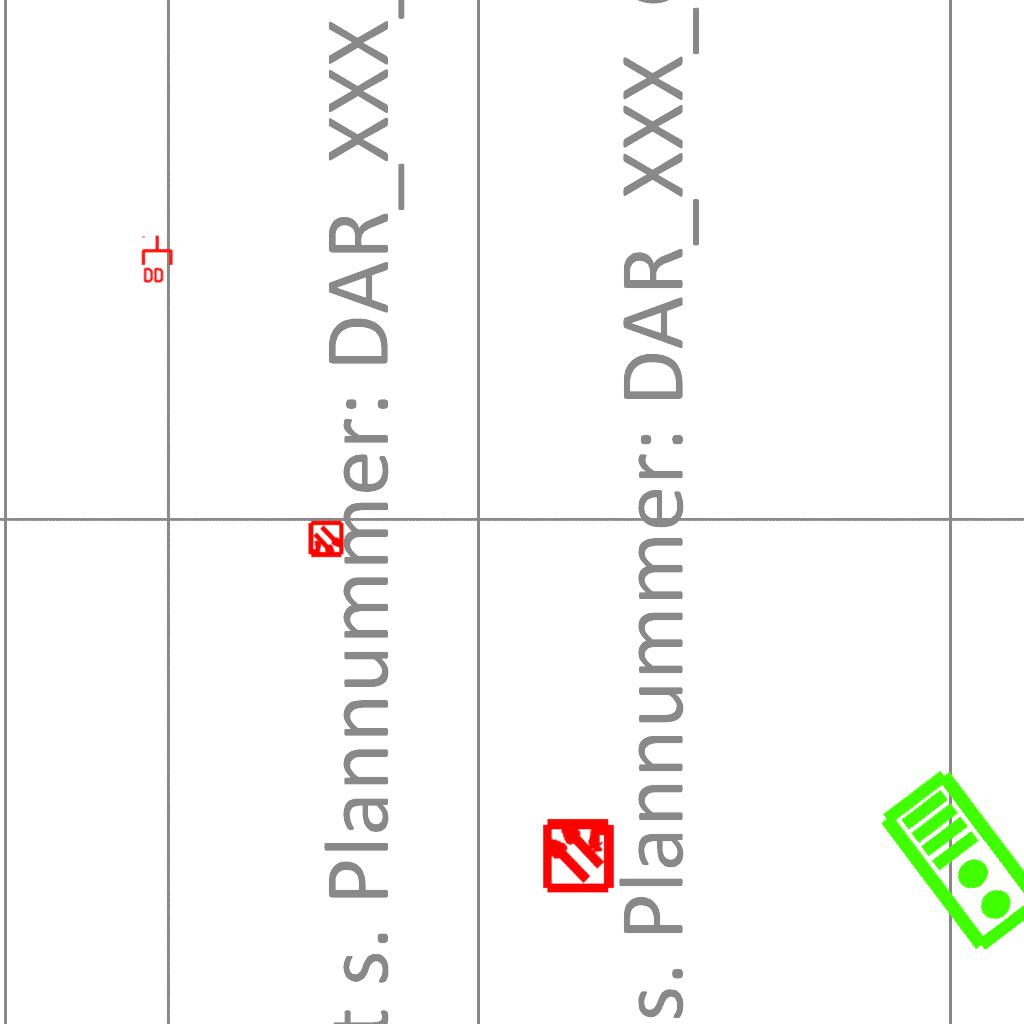Datenanschluss_zweifach: (141, 234, 175, 285)
Gegensprechanlage_mit_Video: (873, 761, 1024, 959)
OT_Multisensormelder_(Kombination_RMO_WMD): (522, 797, 635, 910), (298, 512, 354, 568)
